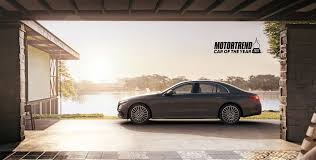car: (114, 79, 263, 128)
